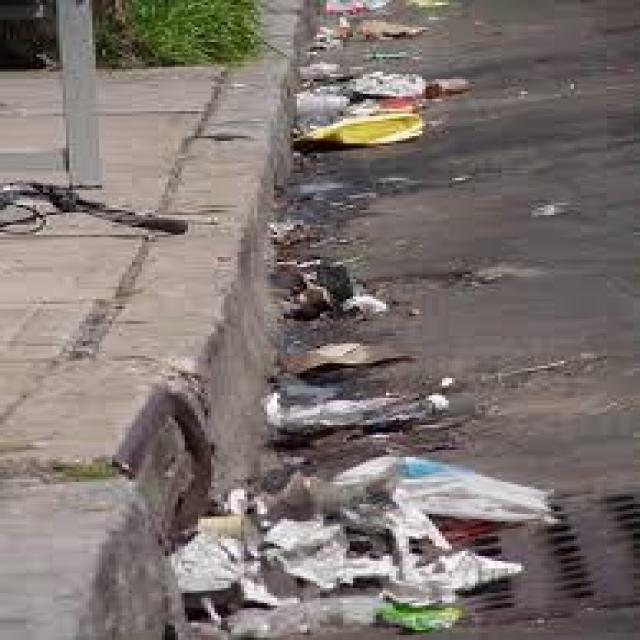curb: (1, 376, 195, 639), (191, 8, 314, 291), (134, 266, 275, 483)
